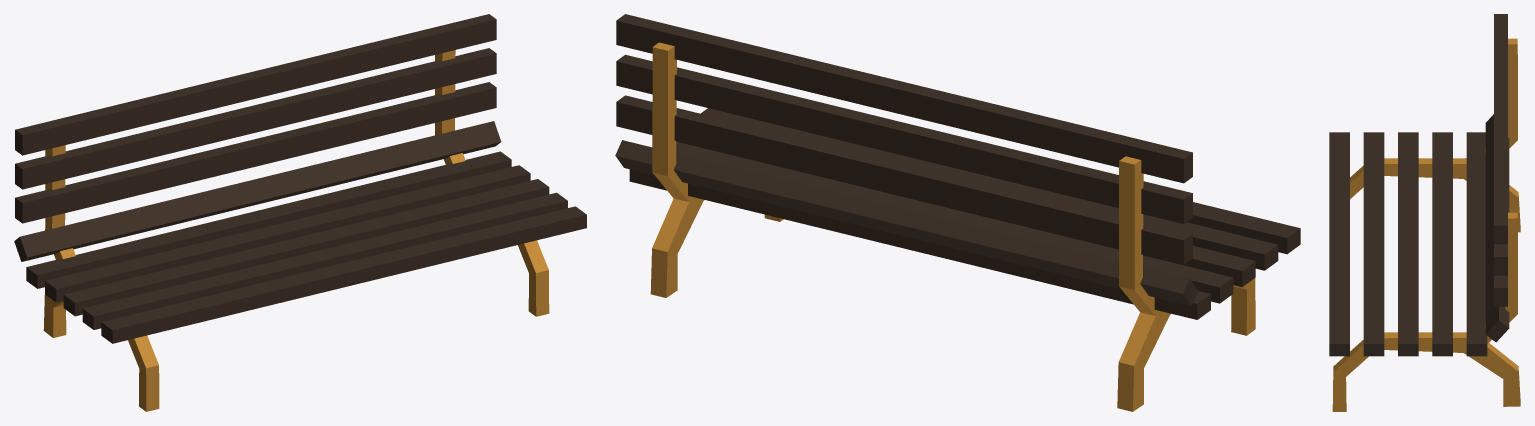
File: mod_structure_bench.fbx
3 renders of one model, left to right at view 1: azimuth 30°, elevation 25°; view 2: azimuth 150°, elevation 25°; view 3: azimuth 270°, elevation 25°, orthographic. The views are drawn at different scales.
Parts seen in each view (by area): view 1: mesh_bench; view 2: mesh_bench; view 3: mesh_bench.
Part boxes in pixels (x1,y1,x2,y2): mesh_bench: (14, 14, 586, 411); mesh_bench: (615, 14, 1300, 411); mesh_bench: (1329, 14, 1520, 411).
Bounding box in the file's own units: 1460 × 650 × 557.
